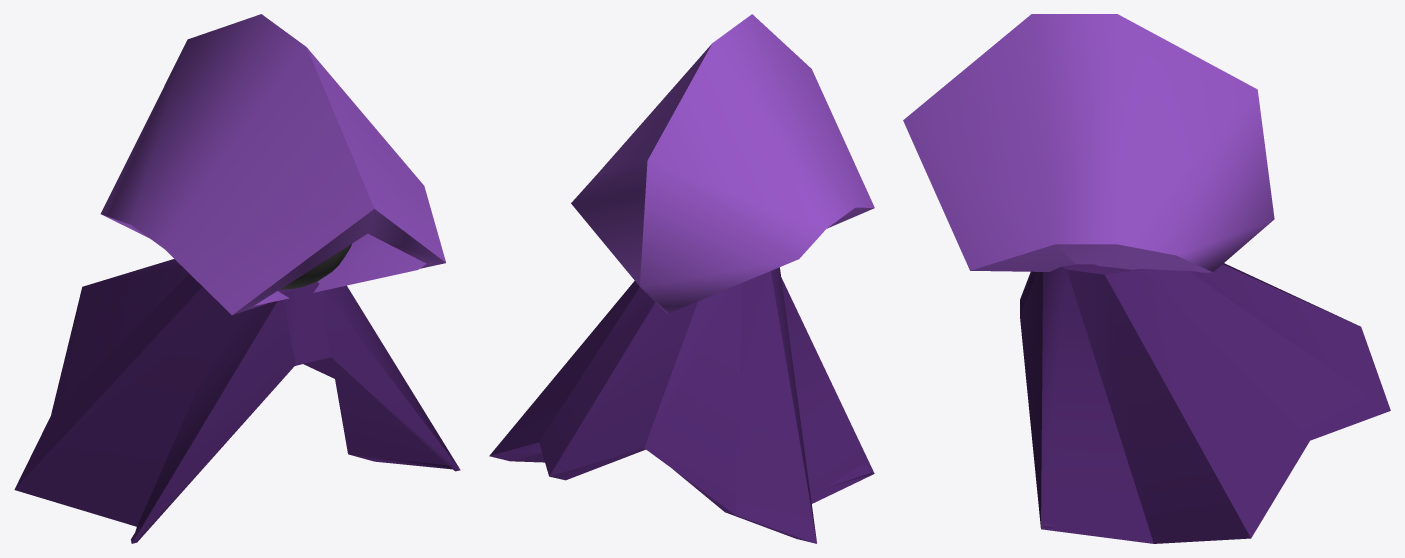
The model's file is player_cloak_mof_1.obj.
The picture shows the model from 3 angles, left to right: view 1: azimuth 30°, elevation 25°; view 2: azimuth 150°, elevation 25°; view 3: azimuth 270°, elevation 25°; orthographic projection. The views are drawn at different scales.
Bounding box in the file's own units: 3.11 × 4 × 3.77.
Materials: 1 (1 with a texture image).
